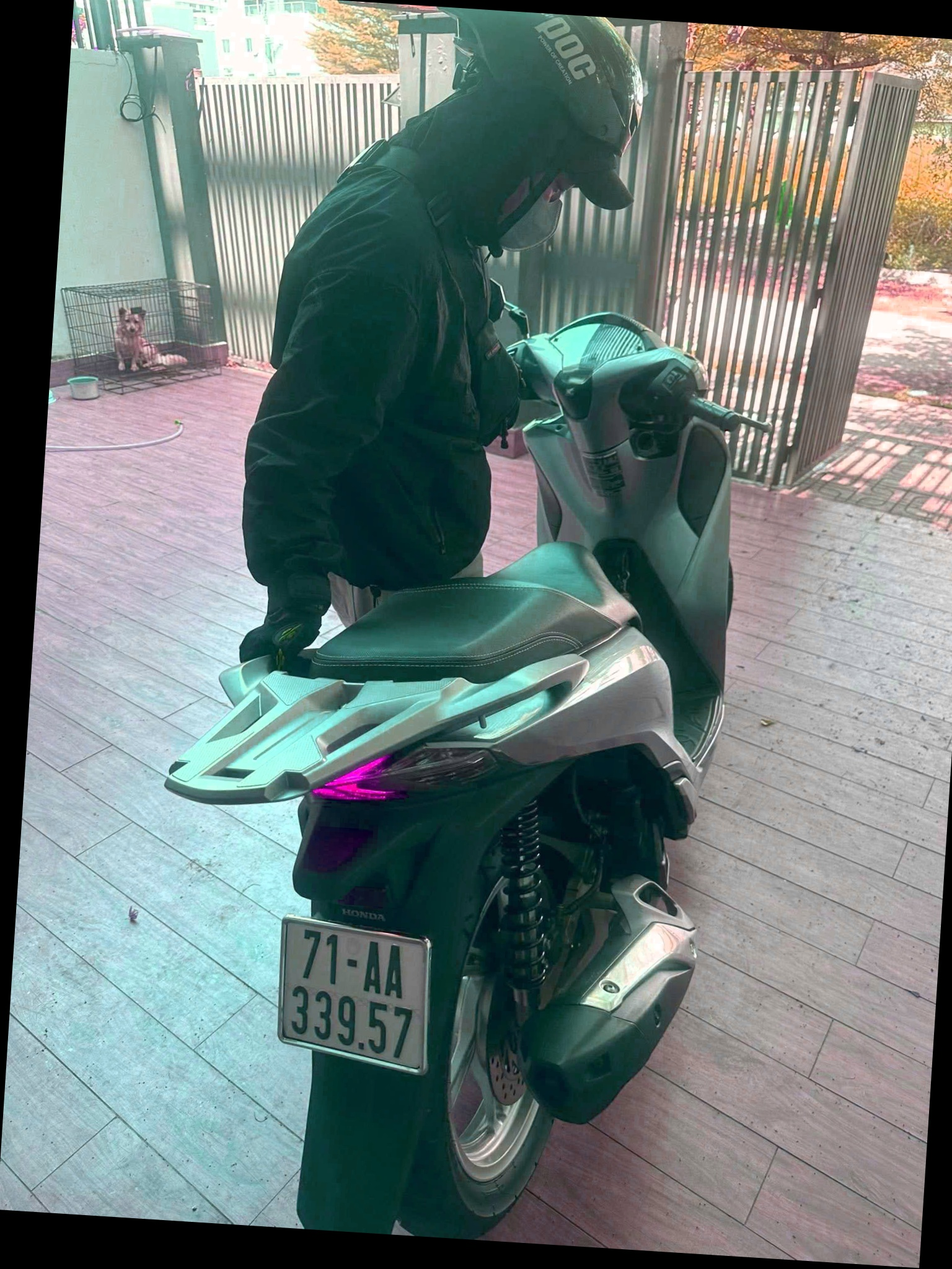Bien-so: (274, 915, 434, 1073)
